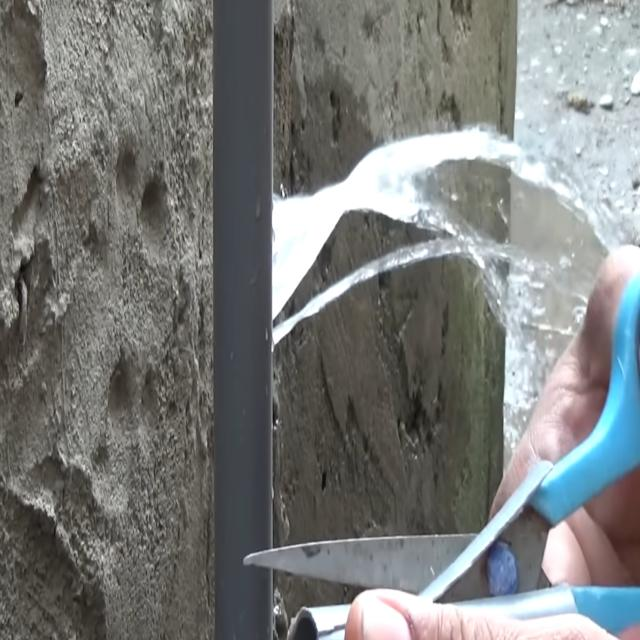leak: (272, 129, 606, 456)
